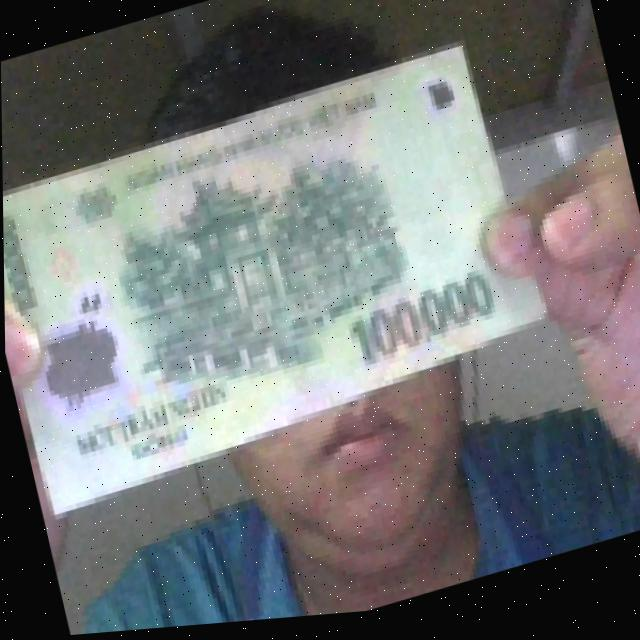100 000 VND: (1, 31, 561, 525)
